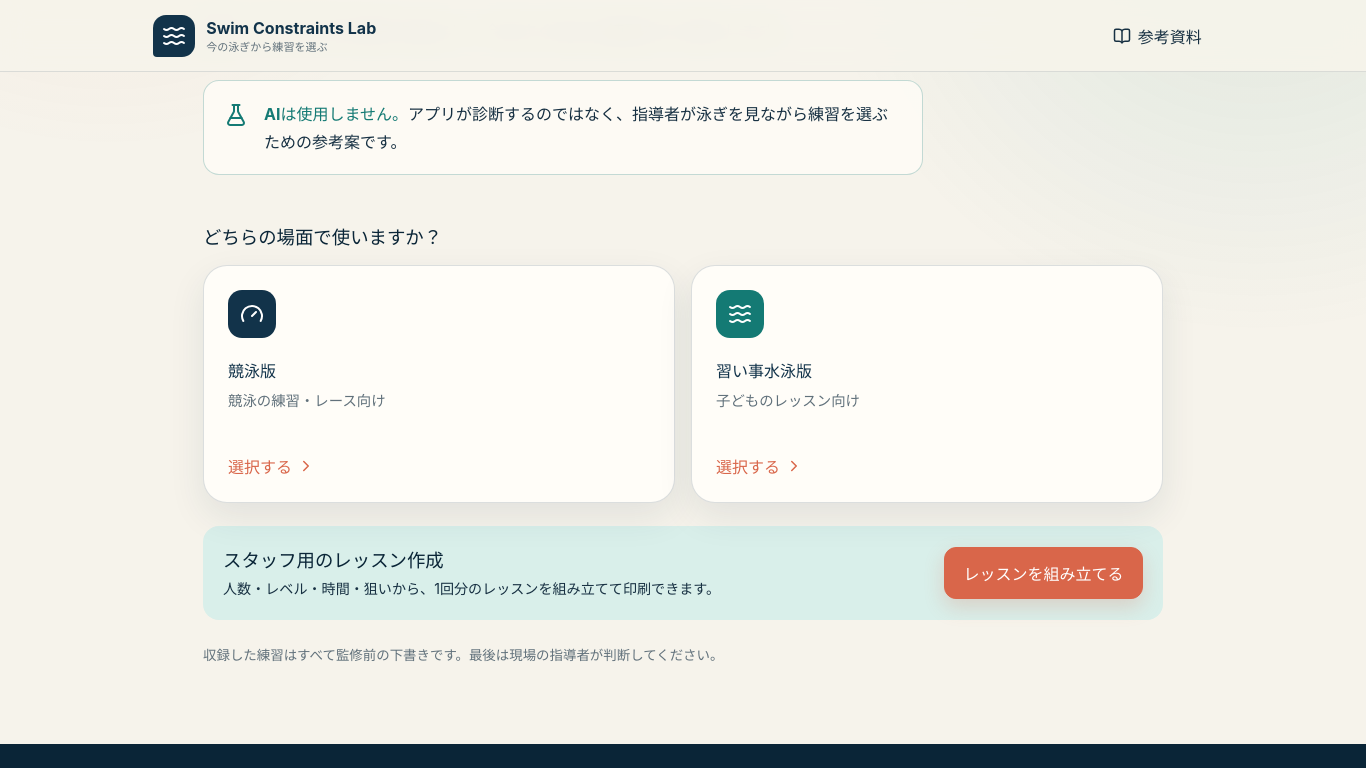
Test case: Swim Constraints Lab SPA flow › 習い事水泳版ではレベル選択前の内容を無効にし、初級にクロールを出さない
(page scrolled)
Click the button "習い事水泳版 子どものレッスン向け 選択する": [740, 314] box left=691, top=265, right=1163, bottom=503
(page scrolled)
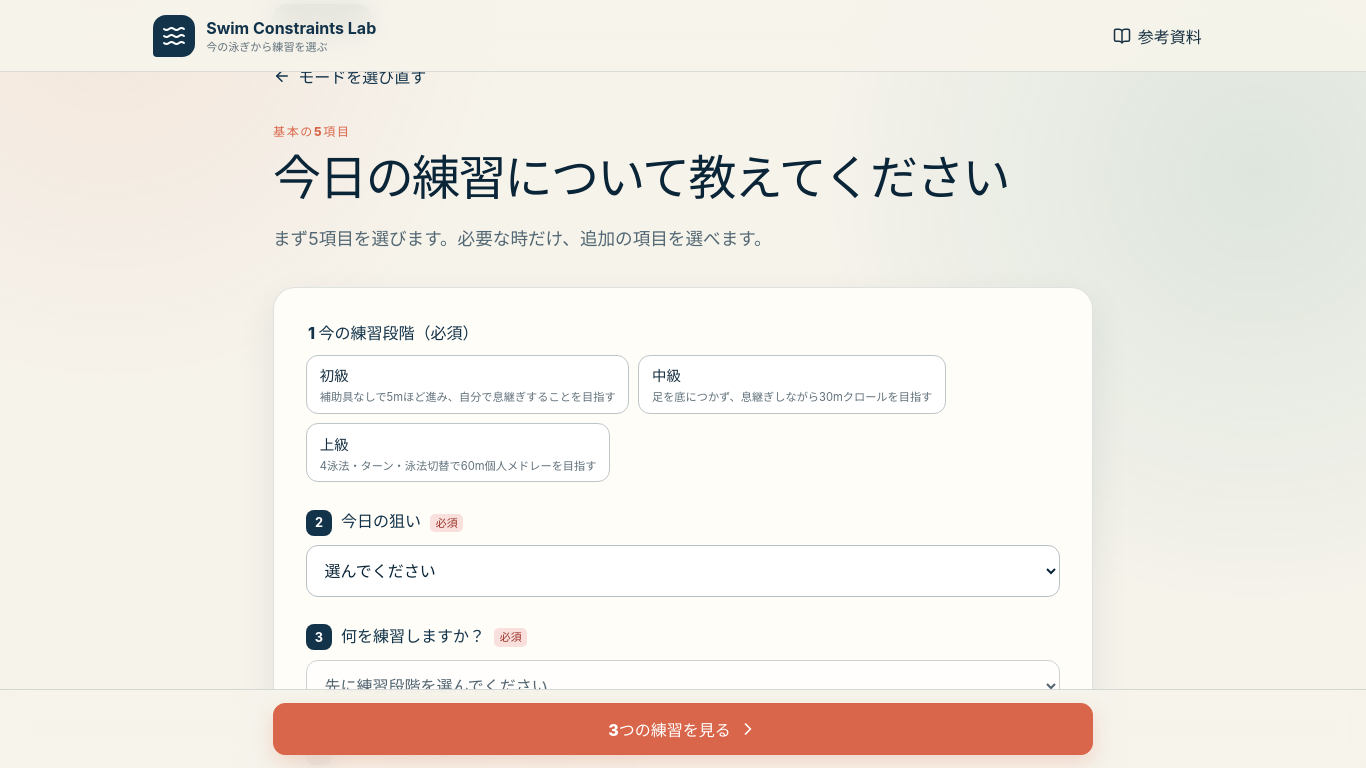
Result: the dropdown labelled "3 何を練習しますか？ 必須" is disabled at left=306, top=660, right=1060, bottom=712
Click the button "初級 補助具なしで5mほど進み、自分で息継ぎすることを目指す": [468, 397] box left=306, top=355, right=629, bottom=414
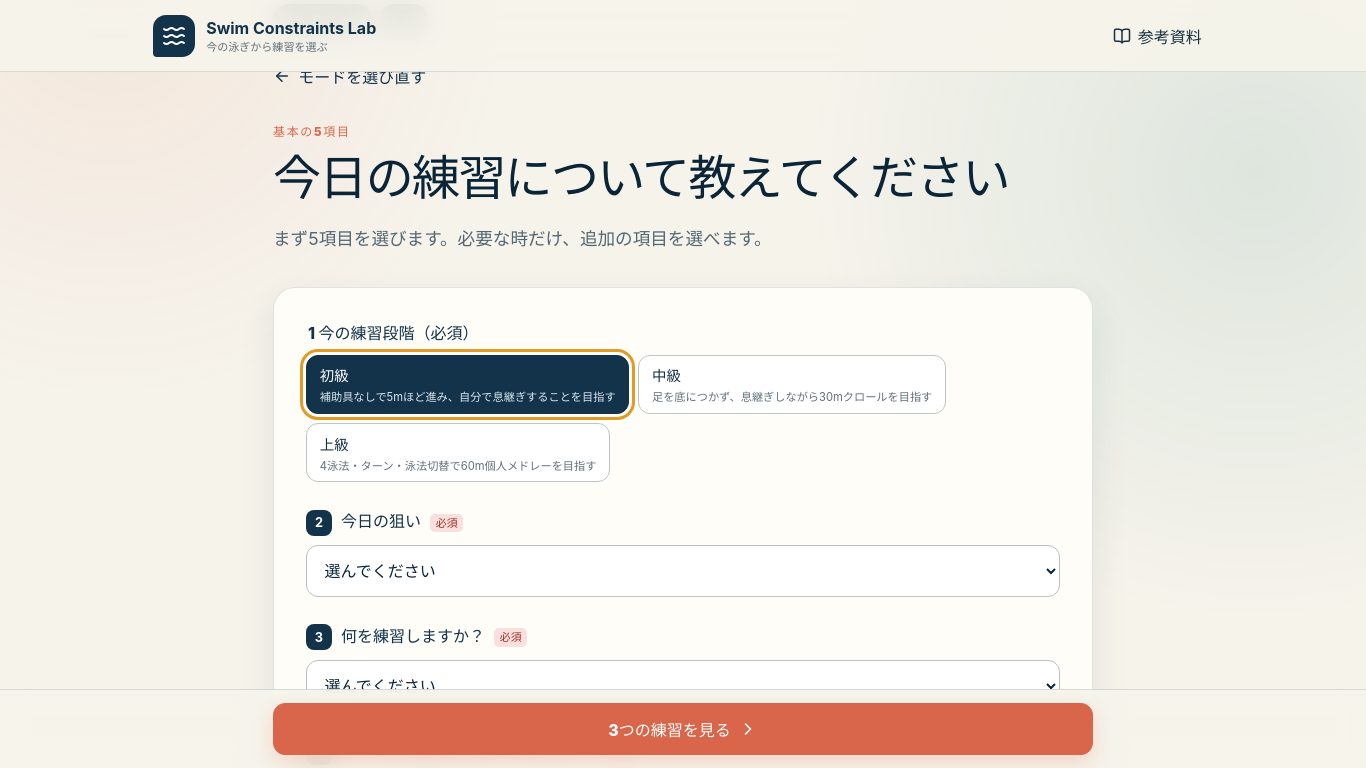
Select "不安を減らし、自信をつけたい" in the dropdown labelled "2 今日の狙い 必須": [683, 571] box left=306, top=545, right=1060, bottom=597
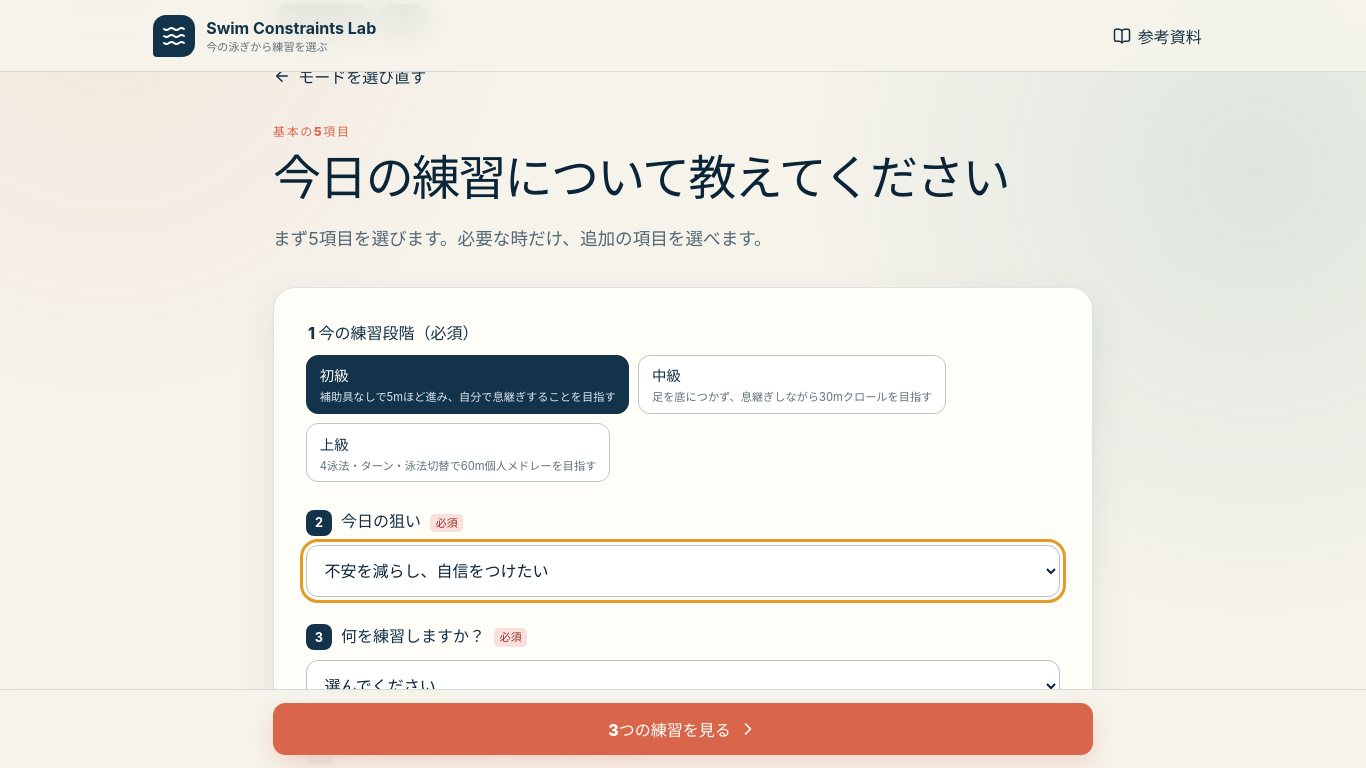
Select "水慣れ" in the dropdown labelled "3 何を練習しますか？ 必須": [683, 686] box left=306, top=660, right=1060, bottom=712
(page scrolled)
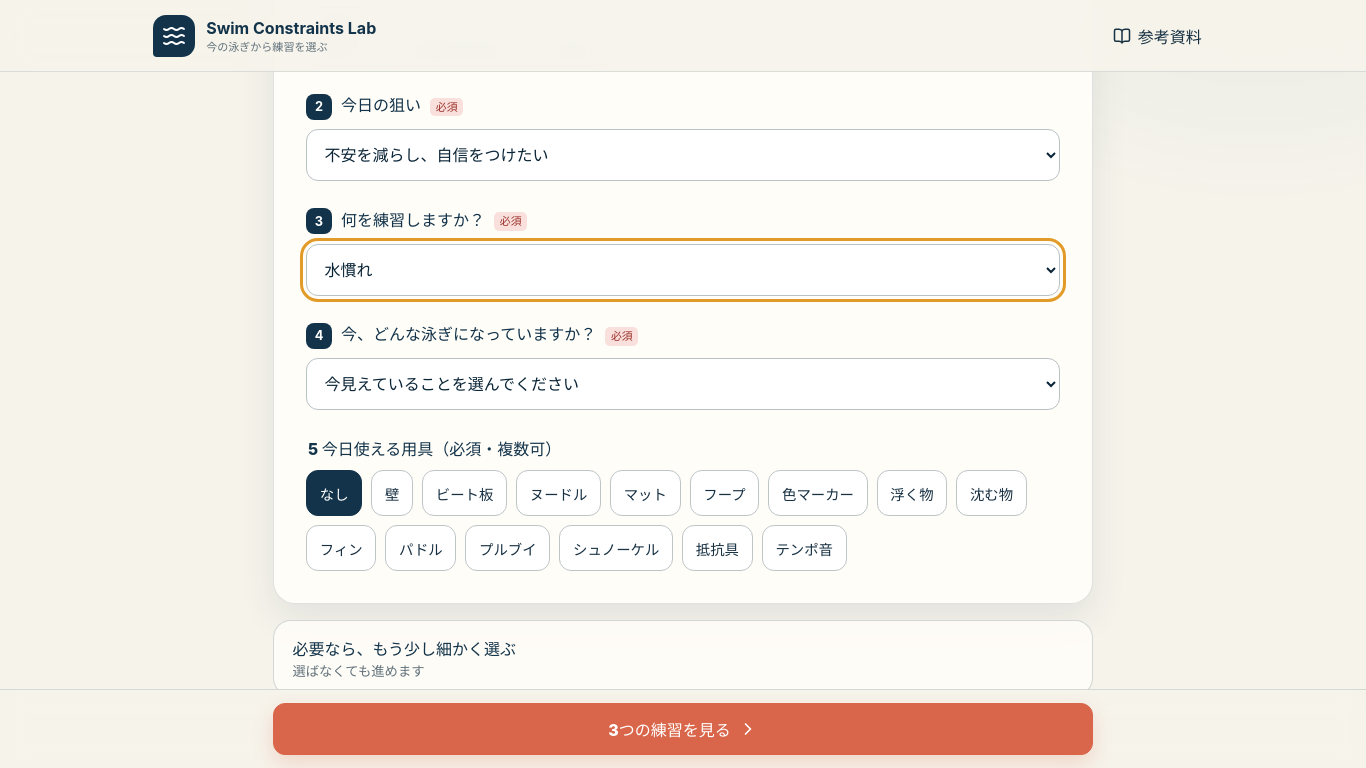
Select "水に入ることを嫌がる" in the dropdown labelled "4 今、どんな泳ぎになっていますか？ 必須": [683, 384] box left=306, top=358, right=1060, bottom=410
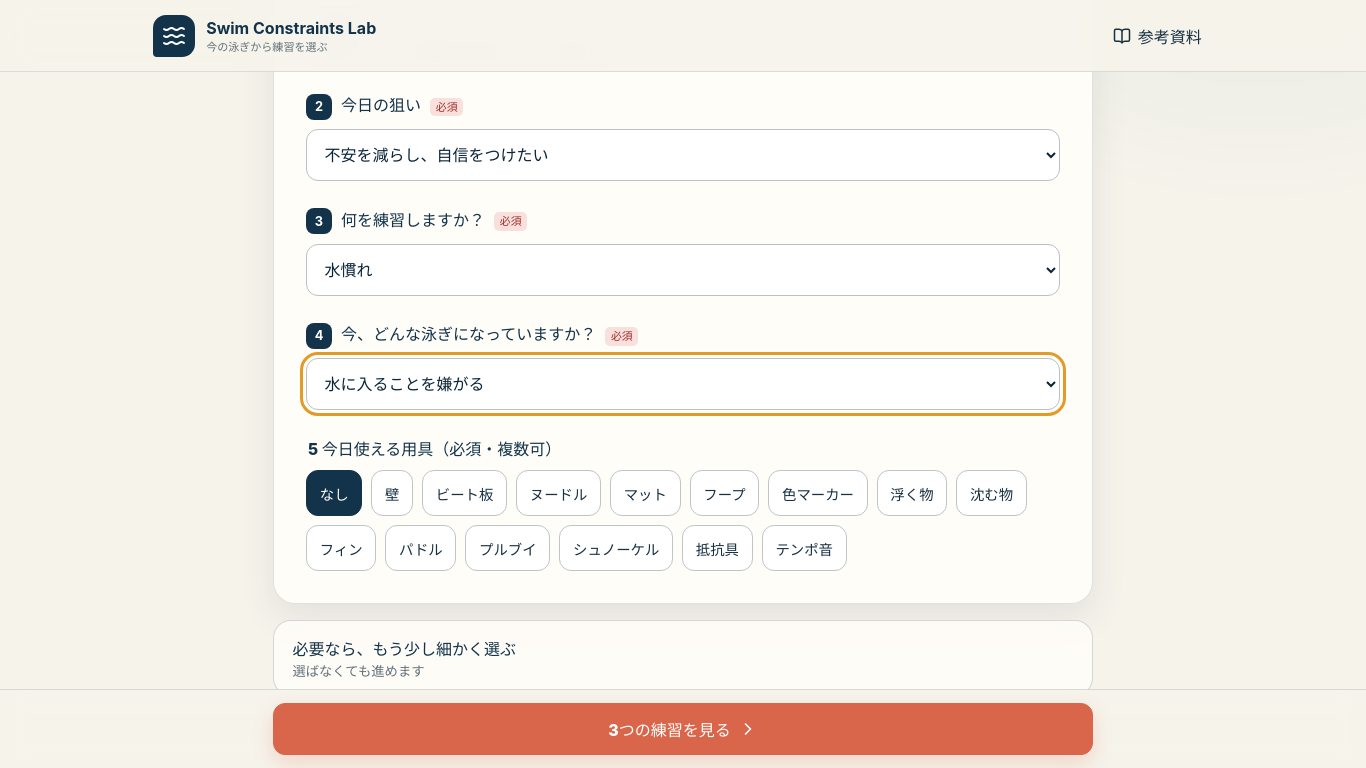
Click the button "3つの練習を見る": [683, 729] box left=273, top=703, right=1093, bottom=755
(page scrolled)
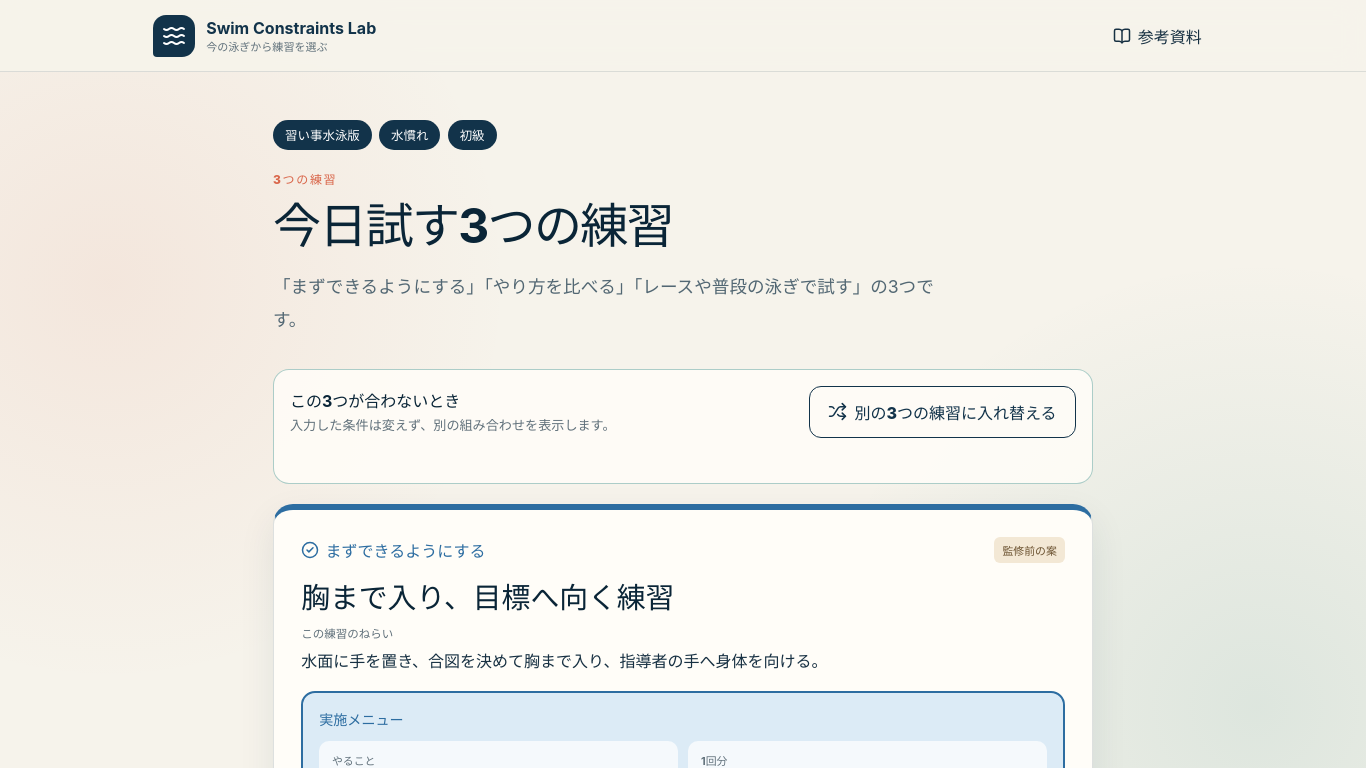
Result: the heading "今日試す3つの練習" is shown at left=273, top=196, right=673, bottom=255
